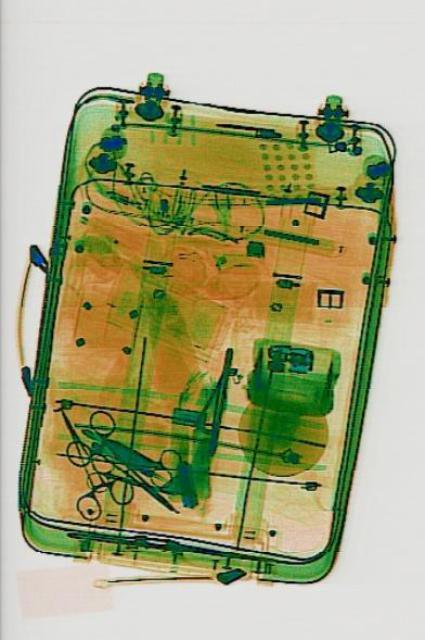Scissors: (60, 394, 190, 544), (36, 381, 136, 535), (94, 411, 183, 497), (82, 448, 149, 506)
